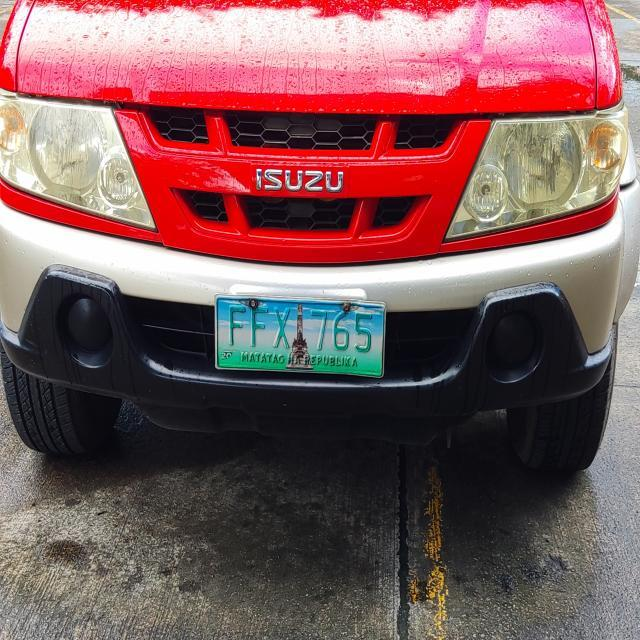LicensePlate: (212, 287, 394, 391)
